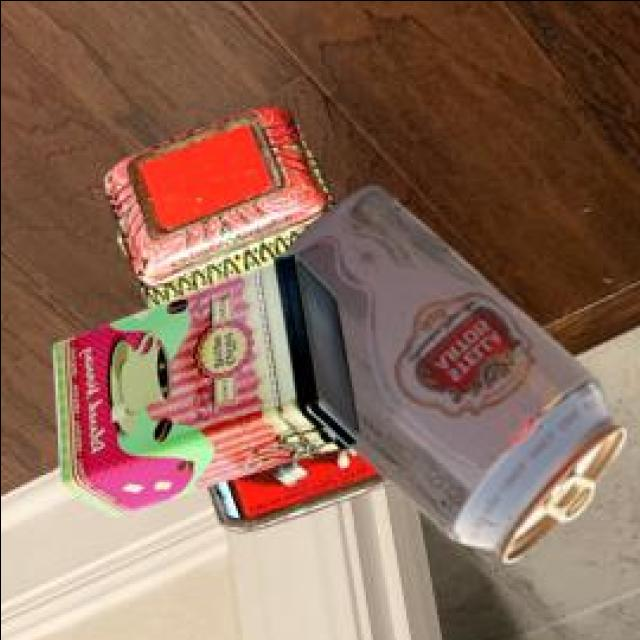logam: (281, 188, 622, 565), (49, 255, 354, 520), (101, 110, 331, 364), (205, 367, 385, 535)
